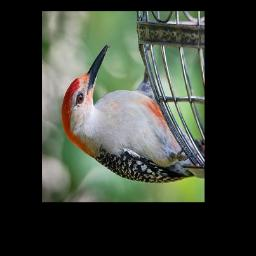Woodpecker: (62, 45, 204, 184)
